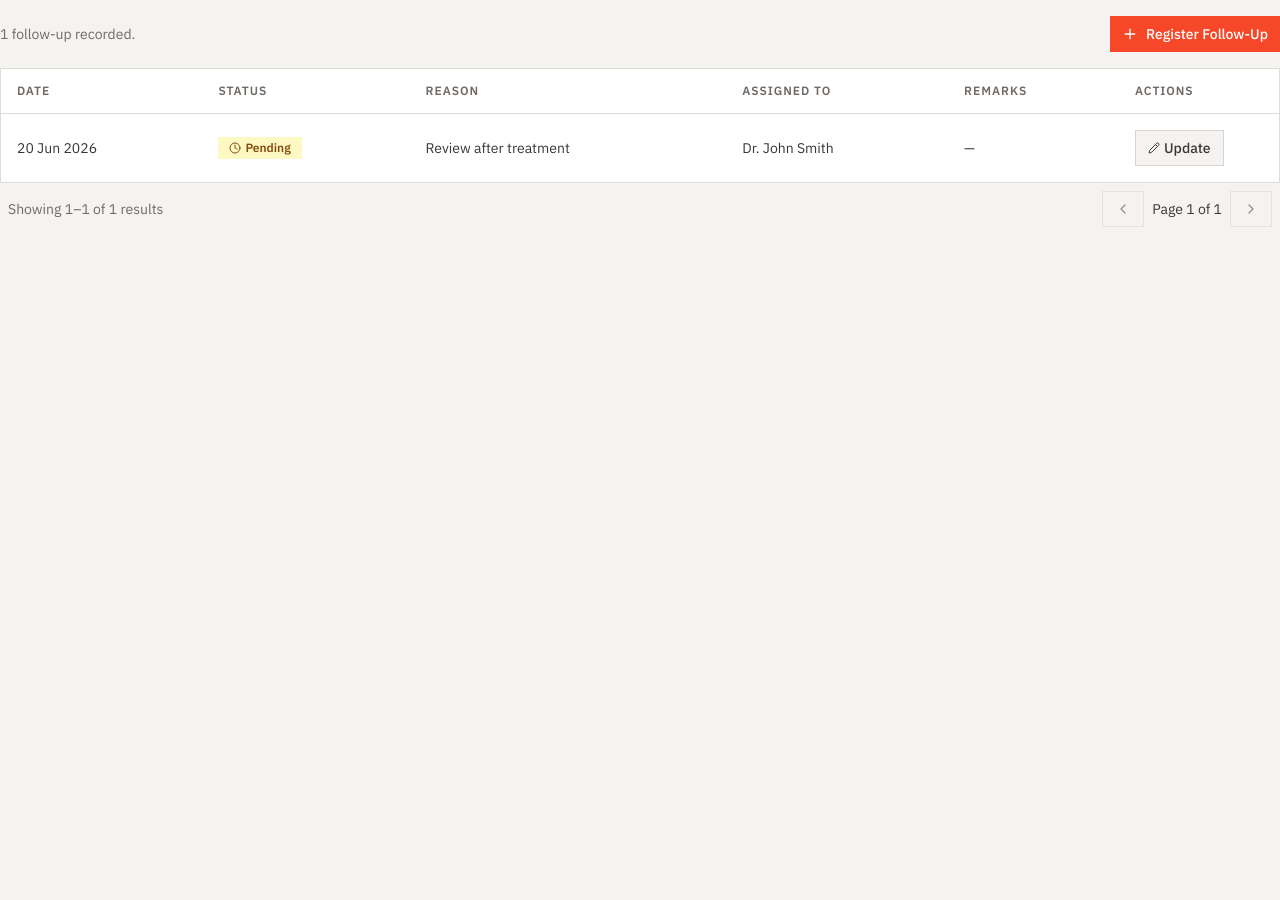
Scenario: FollowUpsTab — interactions › opens the edit dialog when Update is clicked
Expected: the text "Review after treatment" is shown, [426,138,570,156]
Click the button with aria-label "update follow-up scheduled for" at (1179, 148), box [1135,130,1224,166]
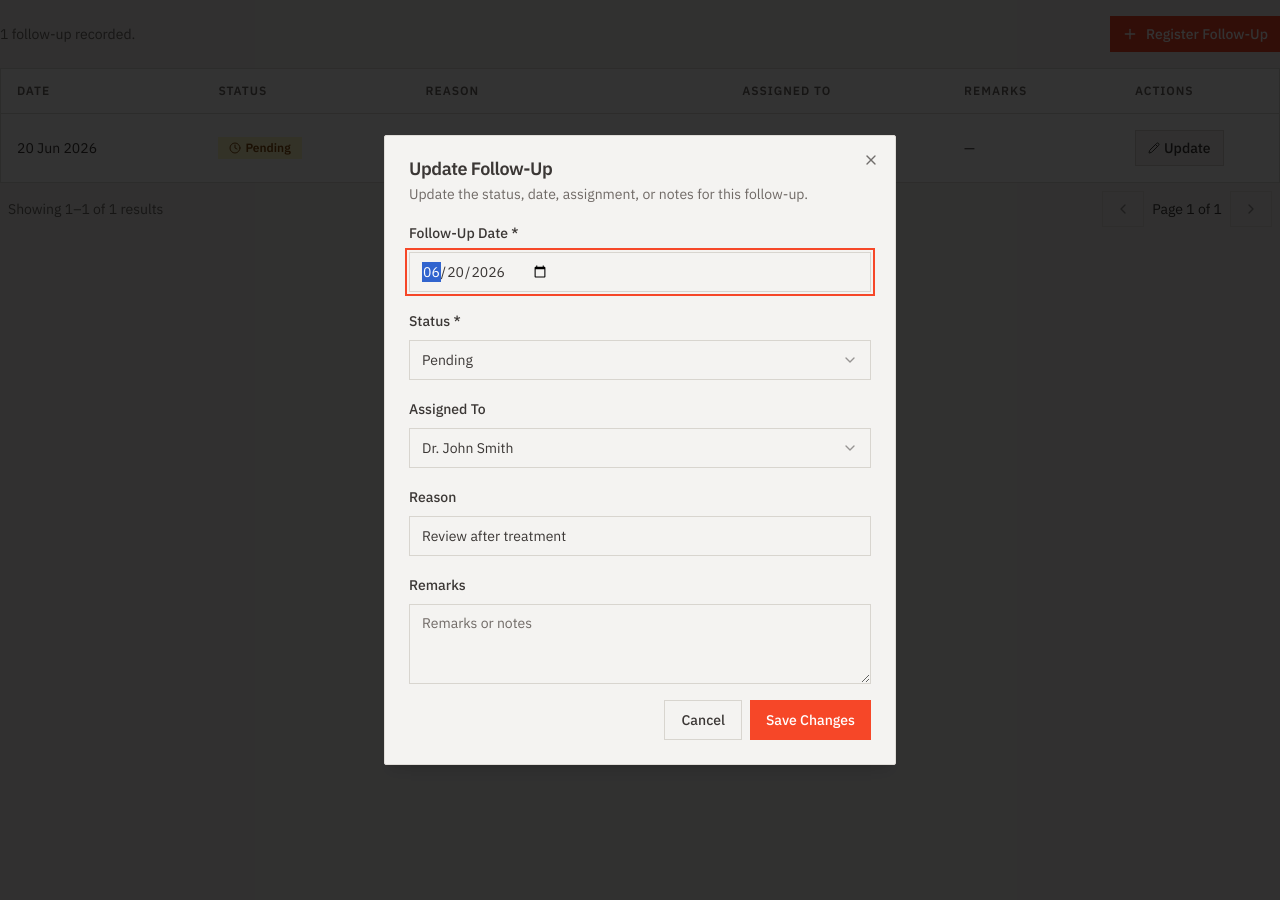
Expected: the dialog "Update Follow-Up" is shown, [384,135,896,765]
